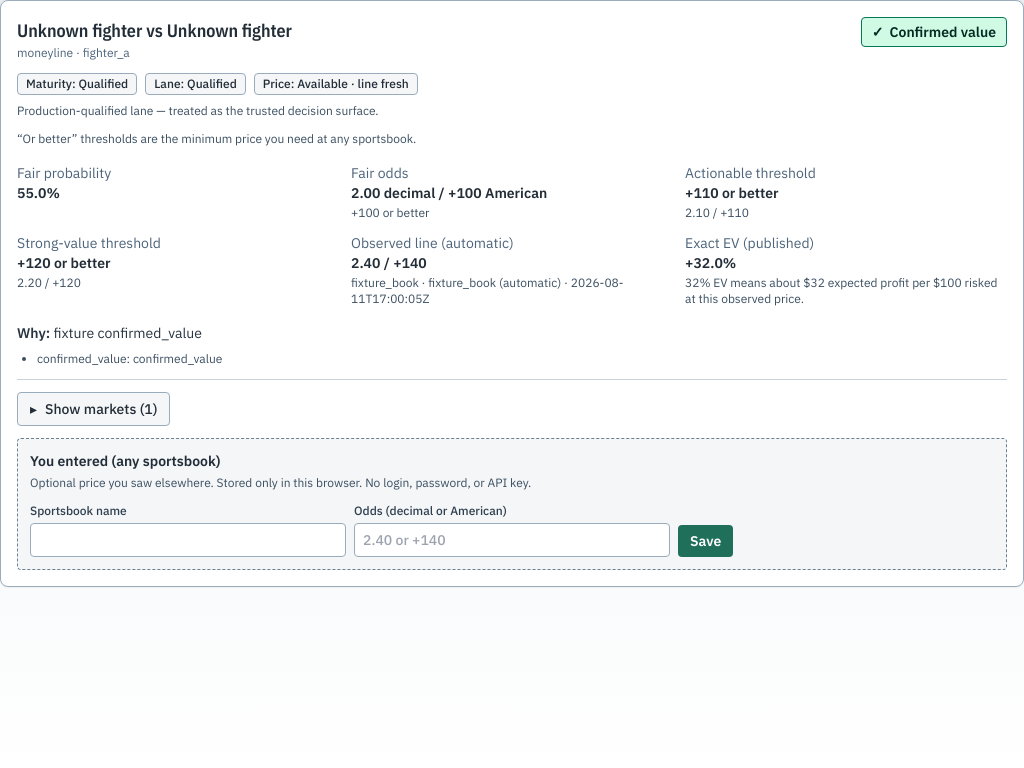
Test case: MatchupCard primary states › expands markets with keyboard-accessible button and shows reasons
The width and height of the screenshot is (1024, 768).
Click the button "▸ Show markets (1)": (94, 409) [17,392,170,426]
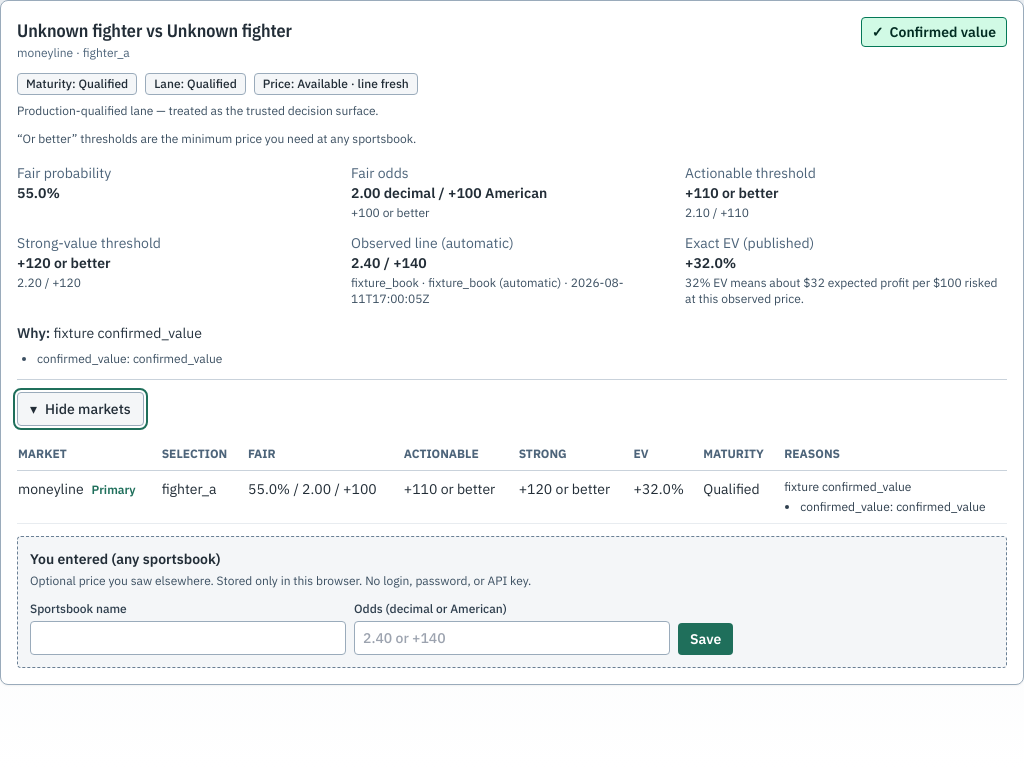
Check: the button named "Show markets" is expanded, box [17,392,144,426]
Check: the table is shown, box [17,438,1007,524]
Check: the text "fixture confirmed_value confirmed_value: confirmed_value" is shown, box [783,471,1007,524]
